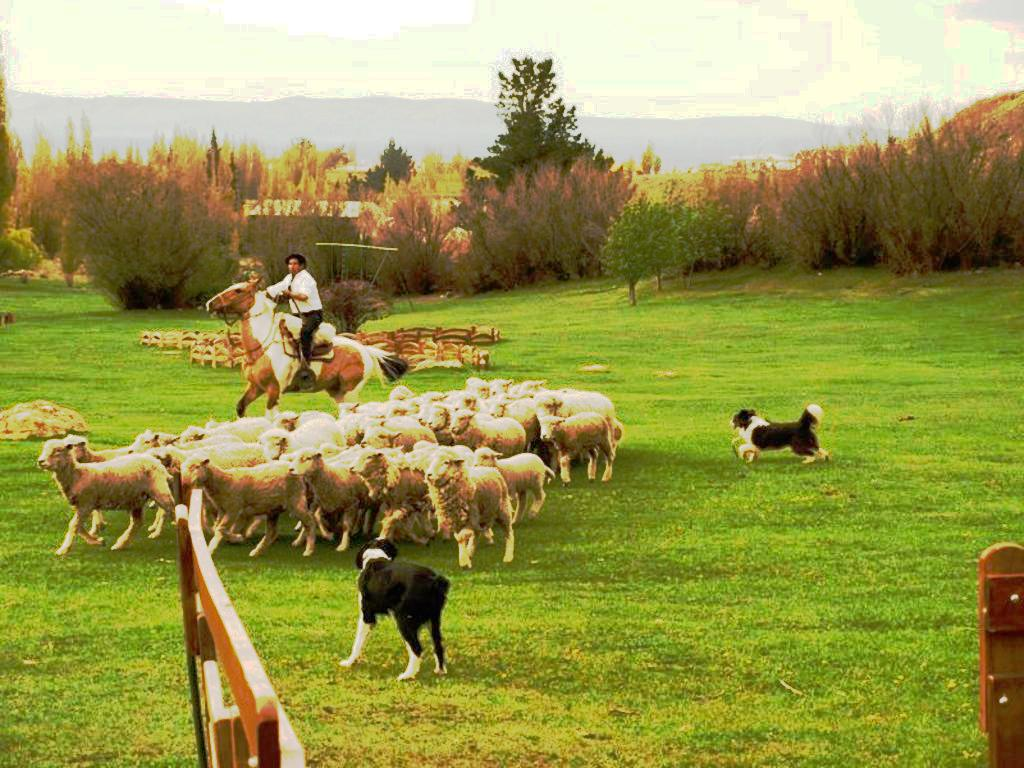Sheep: (36, 436, 182, 558), (180, 450, 314, 558), (420, 448, 522, 568), (286, 446, 380, 556), (352, 446, 440, 552), (139, 442, 217, 538), (534, 406, 617, 486), (479, 446, 551, 527), (447, 406, 529, 470), (532, 386, 617, 432), (368, 416, 438, 454), (500, 393, 542, 453), (198, 414, 278, 444), (76, 433, 154, 463), (418, 402, 459, 446), (406, 442, 458, 472), (337, 413, 382, 445), (178, 430, 248, 450), (322, 443, 370, 469), (258, 428, 294, 461), (128, 430, 178, 453), (380, 398, 420, 420), (292, 410, 336, 430), (530, 388, 570, 410), (484, 394, 518, 418), (277, 446, 315, 466), (370, 444, 412, 462), (508, 381, 546, 400), (436, 444, 476, 462), (272, 411, 302, 433), (352, 401, 388, 418), (464, 378, 493, 398), (356, 410, 388, 427), (484, 378, 516, 394), (440, 391, 470, 406), (316, 442, 344, 458), (202, 418, 234, 432), (336, 402, 364, 418), (404, 395, 432, 410), (388, 386, 415, 401), (418, 392, 446, 404)
